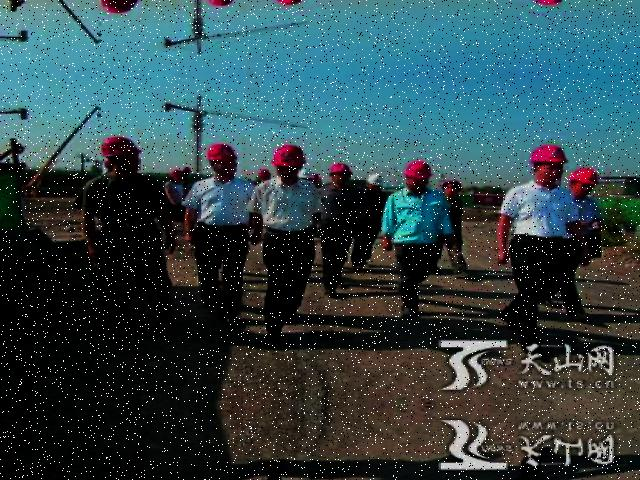Helmet: (94, 133, 142, 164), (524, 142, 570, 172), (265, 141, 307, 172), (200, 139, 237, 168), (401, 158, 436, 185), (564, 164, 600, 189), (322, 159, 354, 180)
